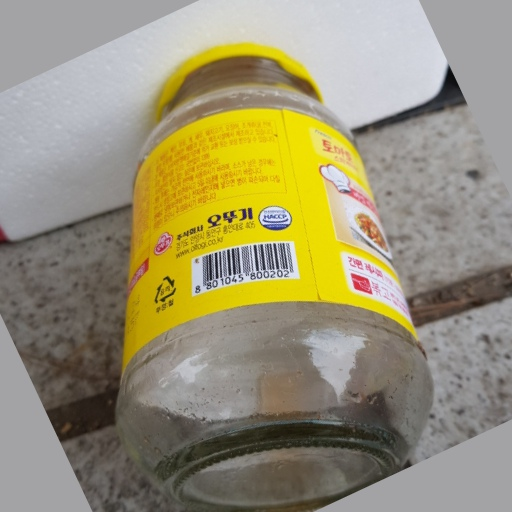Glass_5: (117, 43, 434, 509)
